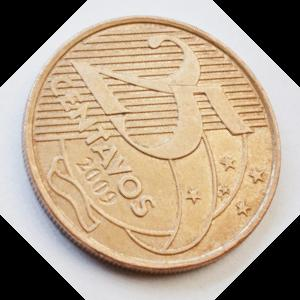25 cent: (21, 14, 281, 274)
